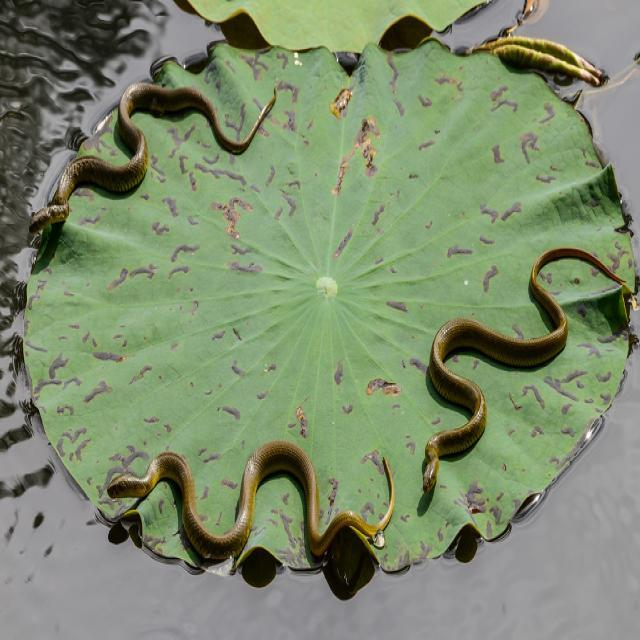Snake: (420, 243, 636, 494), (28, 71, 278, 236), (106, 437, 394, 566)
